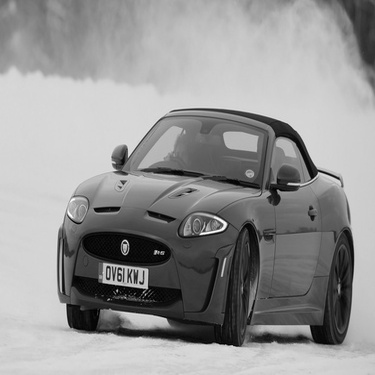car: (51, 100, 359, 346)
